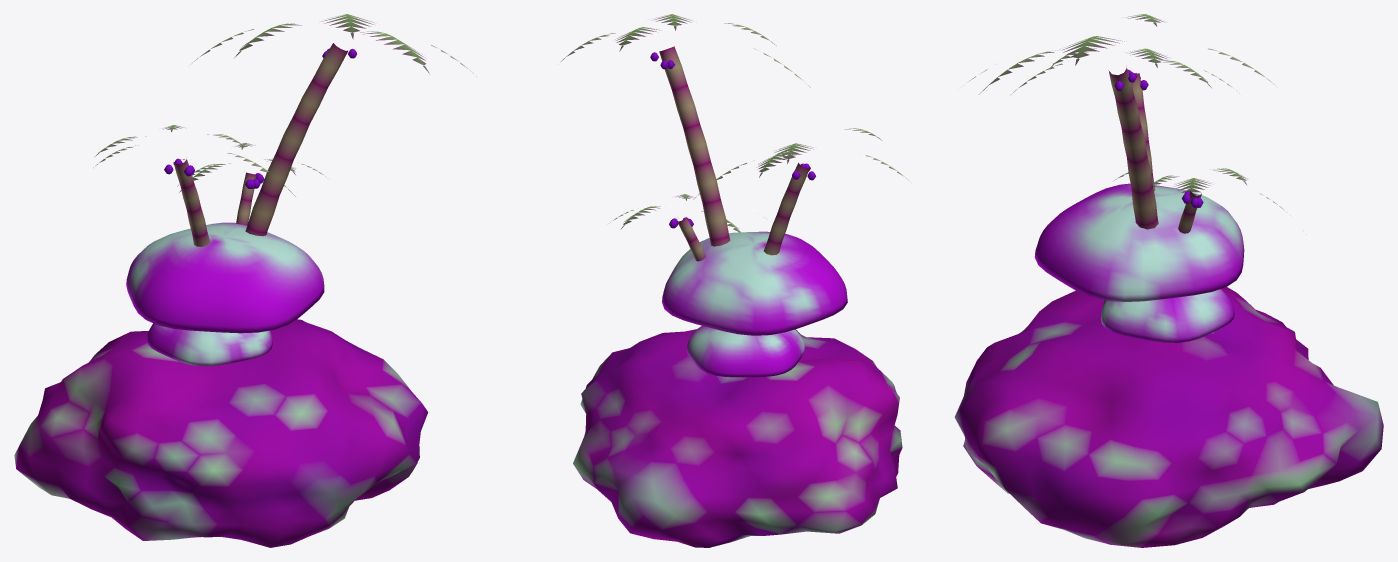
File: buiten-flora.glb
The picture shows the model from 3 angles, left to right: view 1: azimuth 30°, elevation 25°; view 2: azimuth 150°, elevation 25°; view 3: azimuth 270°, elevation 25°; orthographic projection. The views are drawn at different scales.
Parts seen in each view (by area): view 1: rots_4, paddo_3, palm_2, paddo_2, palm_1, palm_3; view 2: rots_4, paddo_3, palm_2, paddo_2, palm_1, palm_3; view 3: rots_4, paddo_3, paddo_2, palm_2, palm_1, palm_3.
Boxes of the visible parts, x1=… form: rots_4: x1=14, y1=319, x2=428, y2=547; paddo_3: x1=126, y1=222, x2=324, y2=333; palm_2: x1=190, y1=14, x2=476, y2=236; paddo_2: x1=147, y1=323, x2=272, y2=366; palm_1: x1=93, y1=125, x2=295, y2=246; palm_3: x1=177, y1=142, x2=325, y2=225; rots_4: x1=573, y1=329, x2=902, y2=547; paddo_3: x1=662, y1=231, x2=847, y2=335; palm_2: x1=561, y1=14, x2=810, y2=246; paddo_2: x1=686, y1=326, x2=804, y2=377; palm_1: x1=693, y1=128, x2=908, y2=255; palm_3: x1=610, y1=194, x2=767, y2=261; rots_4: x1=954, y1=287, x2=1383, y2=547; paddo_3: x1=1034, y1=183, x2=1244, y2=301; paddo_2: x1=1101, y1=289, x2=1234, y2=342; palm_2: x1=968, y1=14, x2=1275, y2=229; palm_1: x1=1011, y1=48, x2=1239, y2=191; palm_3: x1=1114, y1=168, x2=1306, y2=234.
Size of the model in its own units: 10.21 by 10.87 by 9.06.
